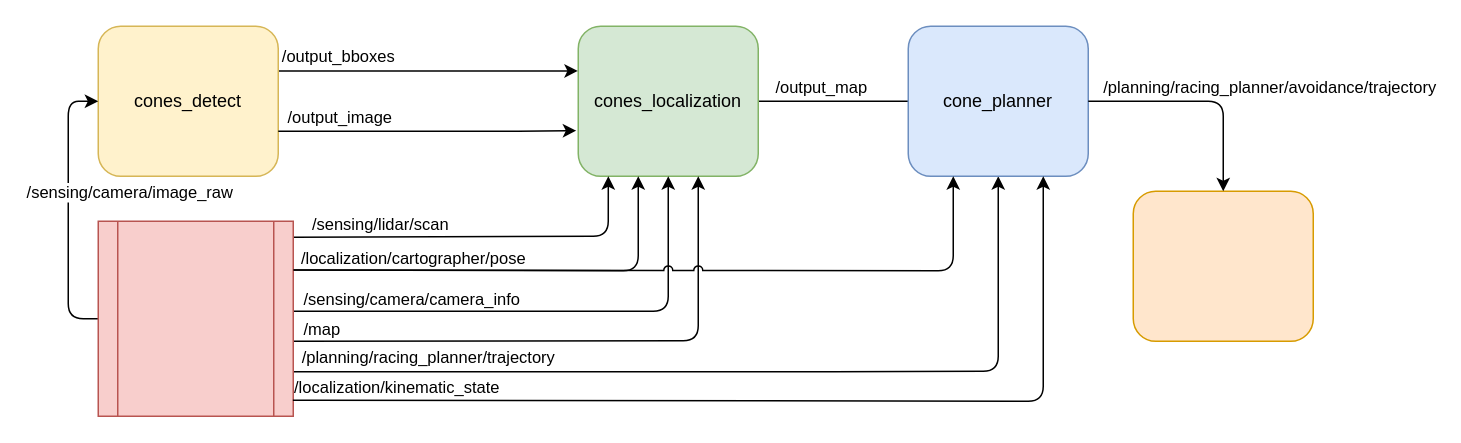
The diagram is 1461 pixels wide and 443 high, and some of its shapes have lost their labels. Each missing label, with the centre of its shape:
autoware_awsim: pixel 195 318
trajectory_follower: pixel 1222 265
